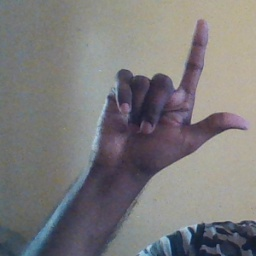L: (90, 18, 249, 171)
